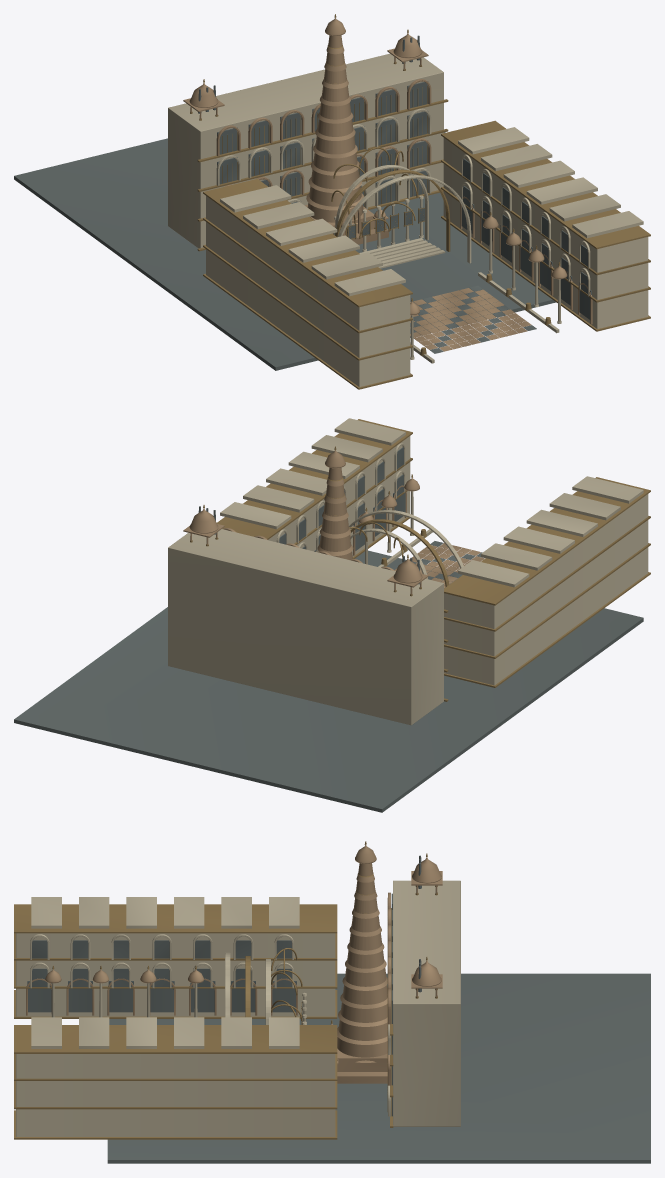
The model's file is arena-100.glb.
The picture shows the model from 3 angles, top to bottom: view 1: azimuth 30°, elevation 25°; view 2: azimuth 150°, elevation 25°; view 3: azimuth 270°, elevation 25°; orthographic projection. The views are drawn at different scales.
Parts seen in each view (by area): view 1: correction-plaster, correction-dark, correction-bronze, correction-sand; view 2: correction-plaster, correction-dark, correction-bronze, correction-sand; view 3: correction-plaster, correction-dark, correction-bronze, correction-sand.
Boxes of the visible parts, box(x1,y1,x2,y2) form: correction-plaster: box(168, 53, 648, 386); correction-dark: box(14, 35, 591, 370); correction-bronze: box(190, 14, 650, 389); correction-sand: box(183, 17, 592, 351); correction-plaster: box(168, 418, 648, 725); correction-dark: box(14, 447, 643, 812); correction-bronze: box(190, 419, 650, 701); correction-sand: box(183, 450, 484, 594); correction-plaster: box(16, 880, 460, 1136); correction-dark: box(27, 855, 650, 1163); correction-bronze: box(14, 841, 437, 1139); correction-sand: box(26, 845, 442, 1085).
Bounding box in the file's own units: 65 × 37.24 × 93.8.
